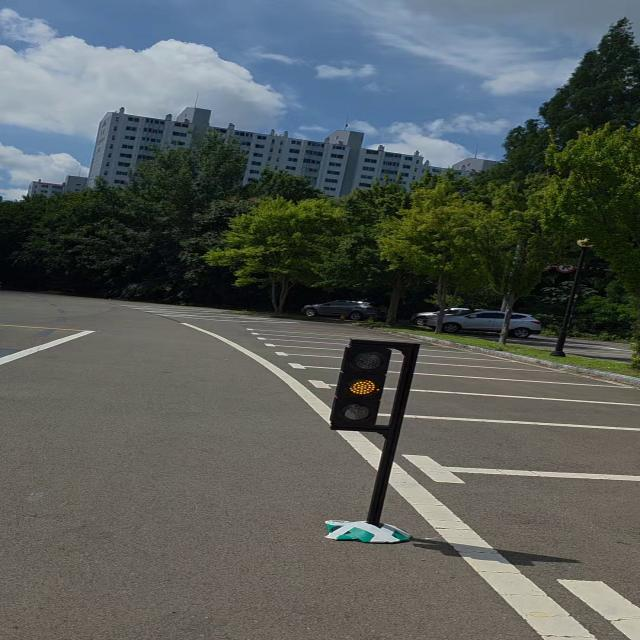yellow: (323, 335, 396, 437)
